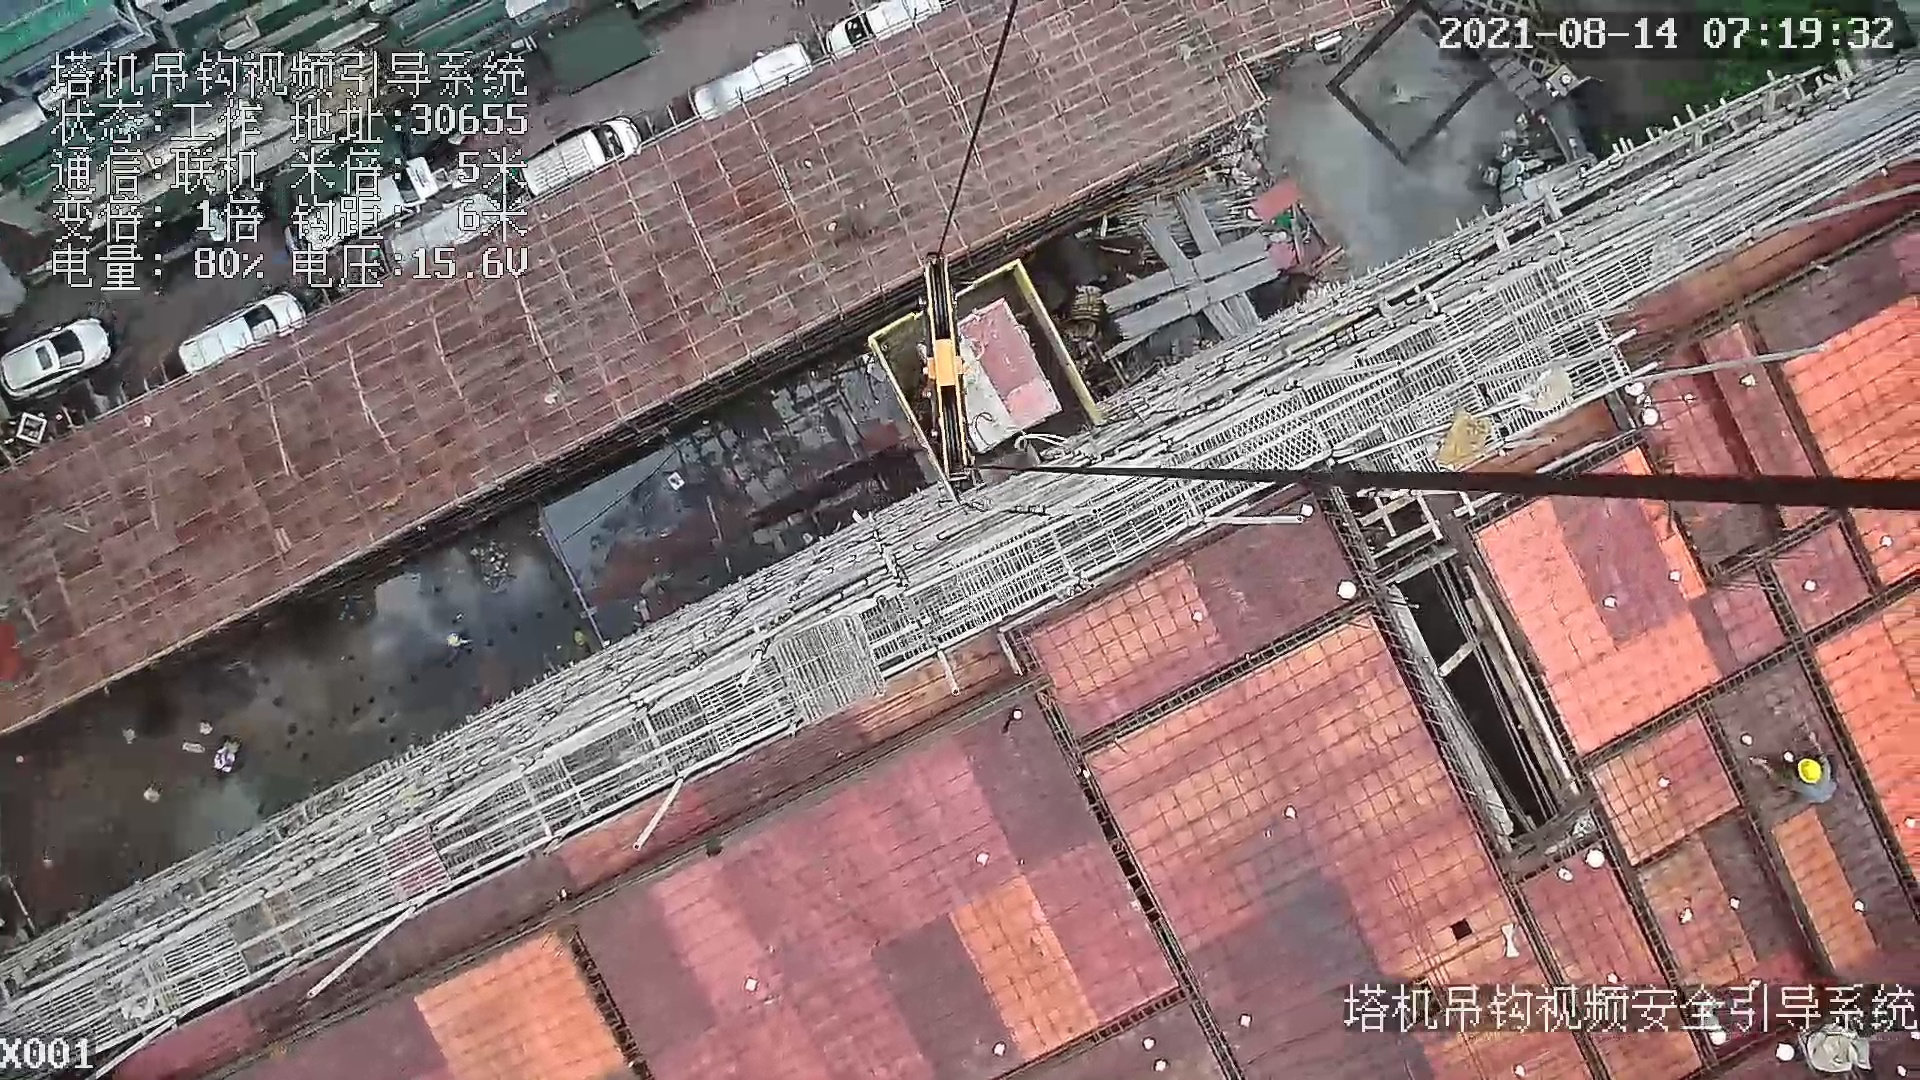helmet: (1796, 758, 1821, 779)
hook: (909, 250, 1005, 486)
person: (1758, 736, 1840, 799)
